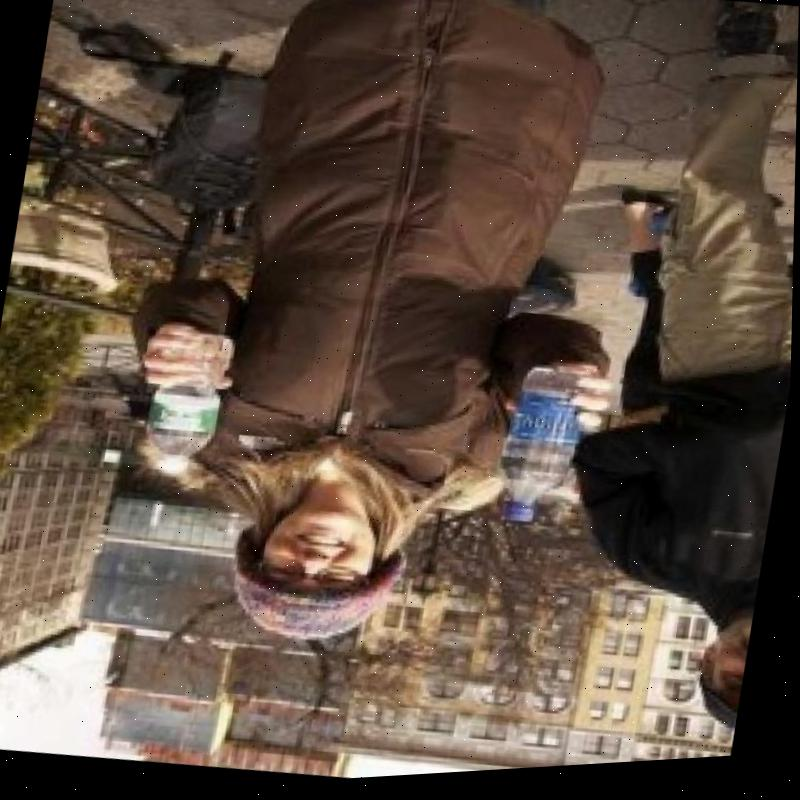botella: (492, 362, 592, 536), (140, 309, 235, 478)
